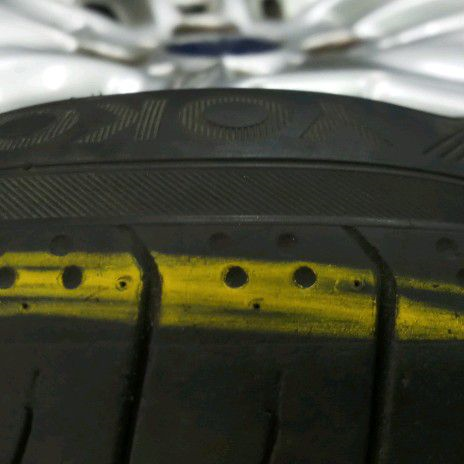CBU: (110, 87, 379, 212)
